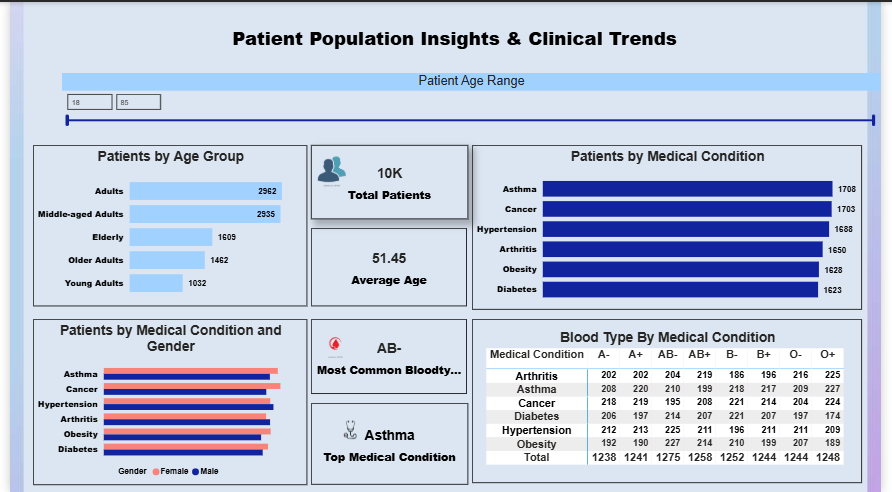

Layout of this report page (visuals, bound fields, positions):
{"tool":"powerbi","page":{"name":"Page 1","canvas":[1280,720],"ordinal":0},"visuals":[{"type":"pivotTable","title":"Blood Type By Medical Condition","fields":{"Rows":["healthcare_dataset one.Medical Condition"],"Columns":["healthcare_dataset one.Blood Type"],"Values":["healthcare_dataset one.Total Patients"]},"box":[678.9,465.8,573.1,241],"z":0},{"type":"clusteredBarChart","title":"Patients by Age Group ","fields":{"Category":["healthcare_dataset one.Age Group"],"Y":["healthcare_dataset one.Total Patients"]},"box":[33.8,210.1,402.6,236.6],"z":1000},{"type":"barChart","title":"Patients by Medical Condition","fields":{"Category":["healthcare_dataset one.Medical Condition"],"Y":["healthcare_dataset one.Total Patients","healthcare_dataset one.Blank Measures"]},"box":[678.9,210.1,573.1,242.4],"z":2000},{"type":"clusteredBarChart","title":"Patients by Medical Condition and Gender","fields":{"Category":["healthcare_dataset one.Medical Condition"],"Series":["healthcare_dataset one.Gender"],"Y":["healthcare_dataset one.Total Patients"]},"box":[33.8,465.8,402.6,243.9],"z":3000},{"type":"card","fields":{"Values":["healthcare_dataset one.Average Age"]},"box":[442.3,332.1,229.2,114.6],"z":4000},{"type":"group","id":"g1","title":"Group 2","box":[442.3,589.2,230.7,120.5],"z":5000},{"type":"group","id":"g2","title":"Group 1","box":[442.3,210.1,230.7,108.7],"z":6000},{"type":"card","title":"Total Patients","fields":{"Values":["healthcare_dataset one.Total Patients"]},"box":[442.3,210.1,230.7,108.7],"z":6000,"group":"g2"},{"type":"group","id":"g3","title":"Group 3","box":[442.3,465.8,229.2,110.2],"z":7000},{"type":"card","fields":{"Values":["healthcare_dataset one.Top Medical Condition"]},"box":[442.3,589.2,230.7,120.5],"z":7000,"group":"g1"},{"type":"textbox","box":[192.5,11.8,921.3,80.8],"z":8000},{"type":"card","fields":{"Values":["AdmissionCalendar.Common bloodtype"]},"box":[442.3,465.8,229.2,110.2],"z":8000,"group":"g3"},{"type":"image","box":[443.6,223.3,58,48.3],"z":8501,"group":"g2"},{"type":"slicer","title":"Patient Age Range","fields":{"Values":["healthcare_dataset one.Age"]},"box":[76.4,104.3,1203.4,86.7],"z":9000},{"type":"image","box":[477.9,601.8,43.6,51.6],"z":9003,"group":"g1"},{"type":"image","box":[455.9,474.6,45.4,56.8],"z":9504,"group":"g3"}]}

Visuals, with their boxes in screenshot pixels (x1, y1, x2, y2), scaled from the page's 1280x720 canvas onto the 892x492 screenshot:
"Blood Type By Medical Condition" pivotTable: 473:318:872:483
"Patients by Age Group " clusteredBarChart: 24:144:304:305
"Patients by Medical Condition" barChart: 473:144:872:309
"Patients by Medical Condition and Gender" clusteredBarChart: 24:318:304:485
card - healthcare_dataset one.Average Age: 308:227:468:305
"Group 2" group: 308:403:469:485
"Group 1" group: 308:144:469:218
"Total Patients" card: 308:144:469:218
"Group 3" group: 308:318:468:394
card - healthcare_dataset one.Top Medical Condition: 308:403:469:485
textbox: 134:8:776:63
card - AdmissionCalendar.Common bloodtype: 308:318:468:394
image: 309:153:350:186
"Patient Age Range" slicer: 53:71:891:131
image: 333:411:363:446
image: 318:324:349:363
